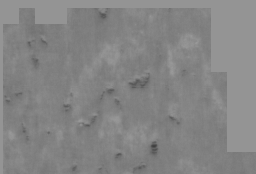oxl: (35, 10, 221, 164)
